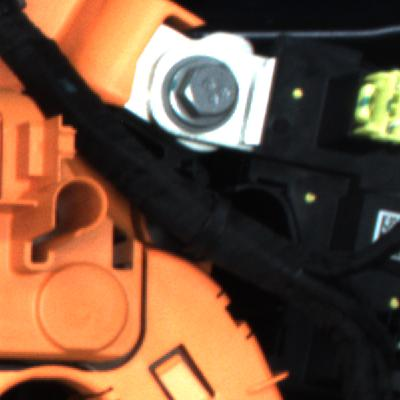nut_b: (160, 43, 247, 136)
